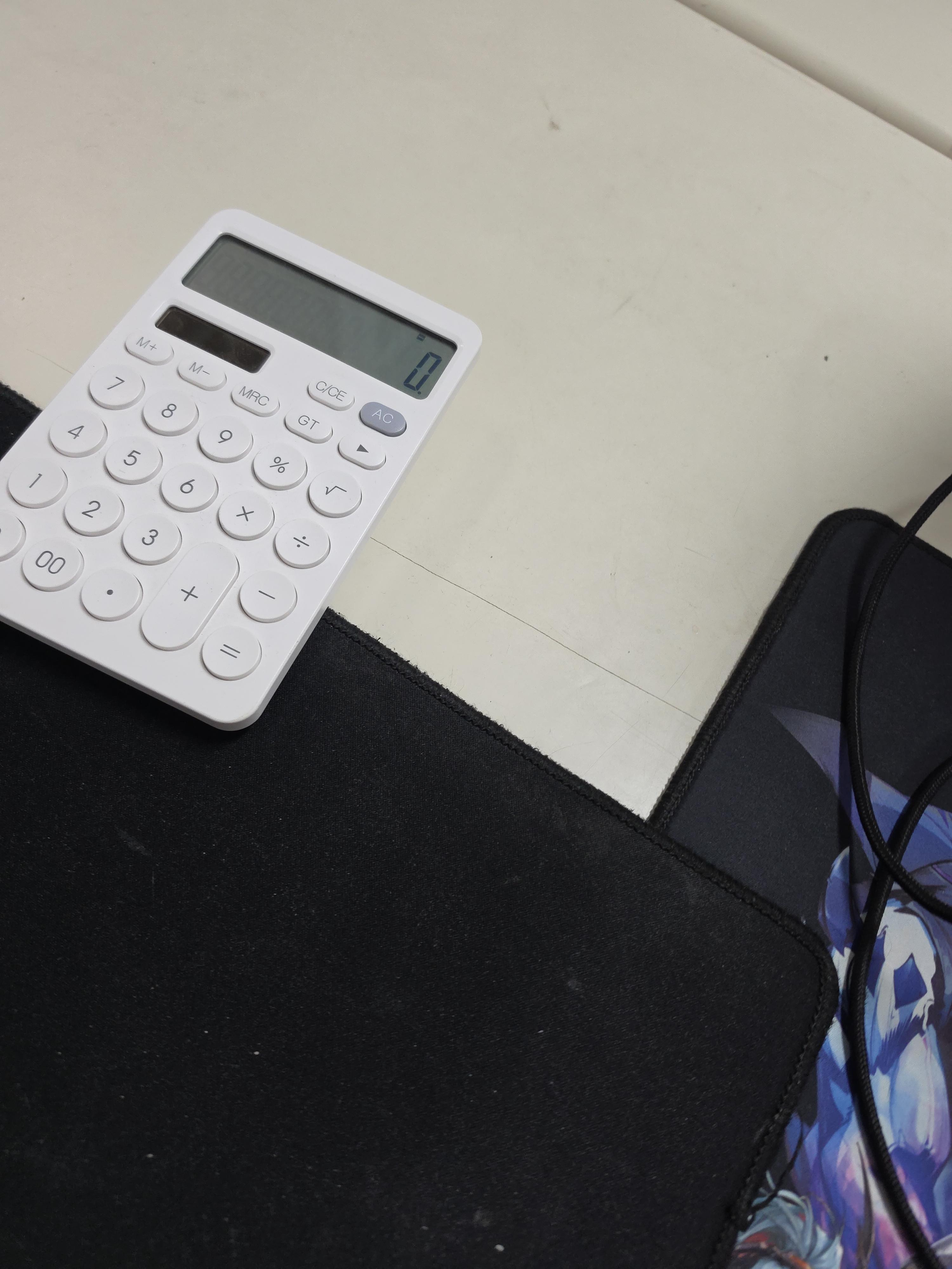calculator: (0, 207, 485, 731)
